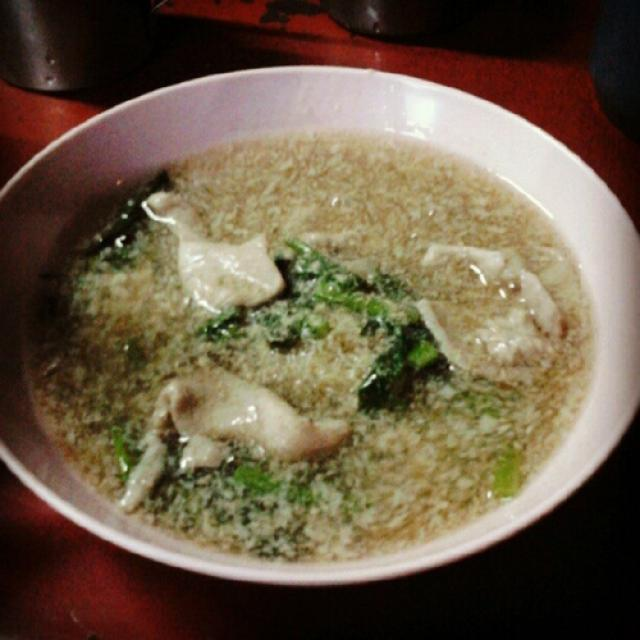面条主食: (11, 37, 634, 591)
